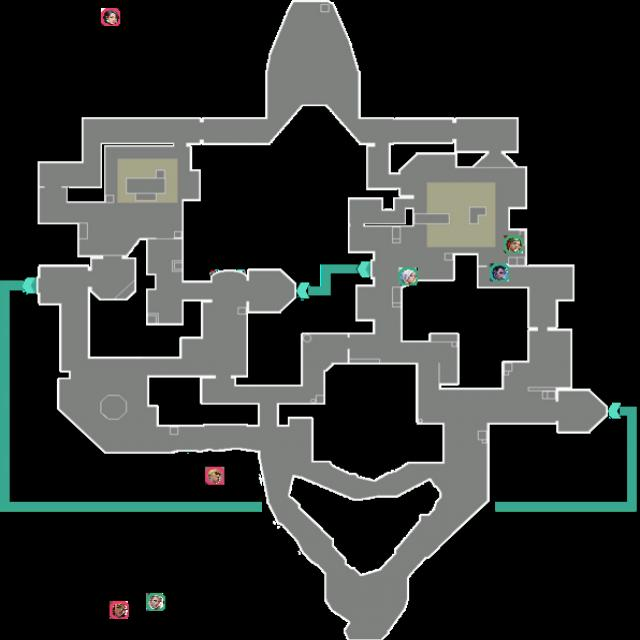atk_gekko: (205, 466, 225, 484)
atk_raze: (109, 601, 129, 619)
atk_sage: (101, 8, 120, 26)
def_jett: (398, 268, 418, 286)
def_skye: (504, 236, 523, 253)
def_sova: (146, 593, 165, 611)
def_yoru: (490, 264, 509, 282)
